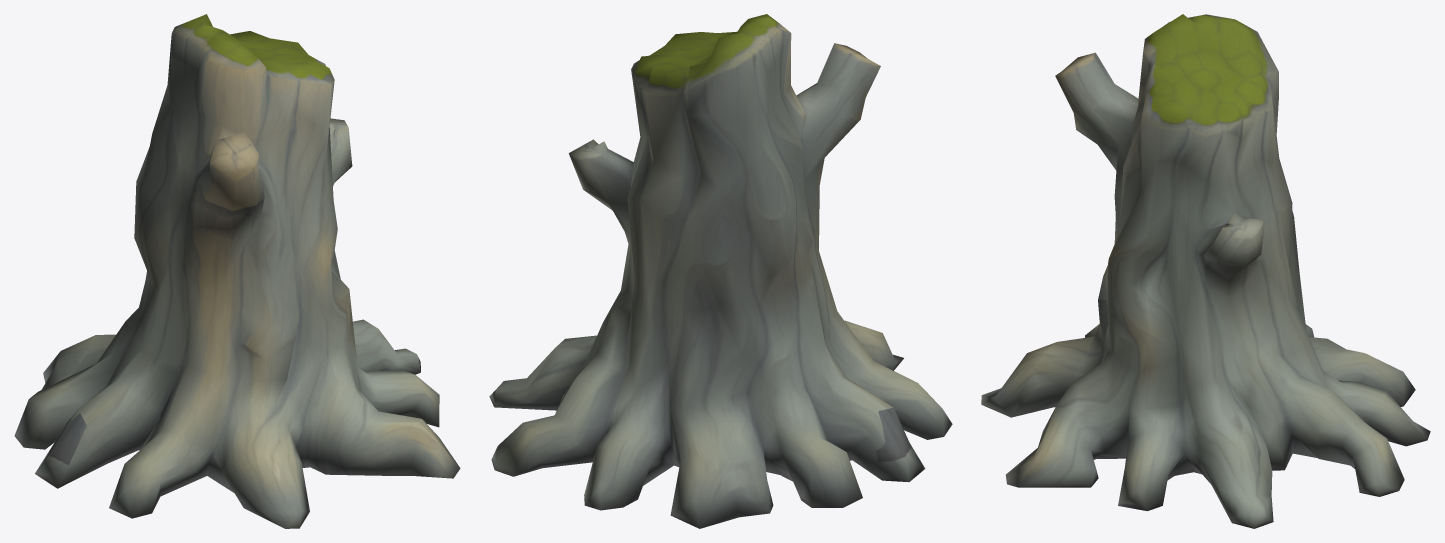
The model's file is snag_1.glb.
3 renders of one model, left to right at view 1: azimuth 30°, elevation 25°; view 2: azimuth 150°, elevation 25°; view 3: azimuth 270°, elevation 25°, orthographic. The views are drawn at different scales.
Parts seen in each view (by area): view 1: geometry_0.001; view 2: geometry_0.001; view 3: geometry_0.001.
Part boxes in pixels (left/top/right/bottom): geometry_0.001: left=14, top=14, right=460, bottom=528; geometry_0.001: left=489, top=14, right=952, bottom=528; geometry_0.001: left=981, top=14, right=1430, bottom=528.
Bounding box in the file's own units: 1.99 × 1.97 × 1.98.
1 material, 1 textured.
